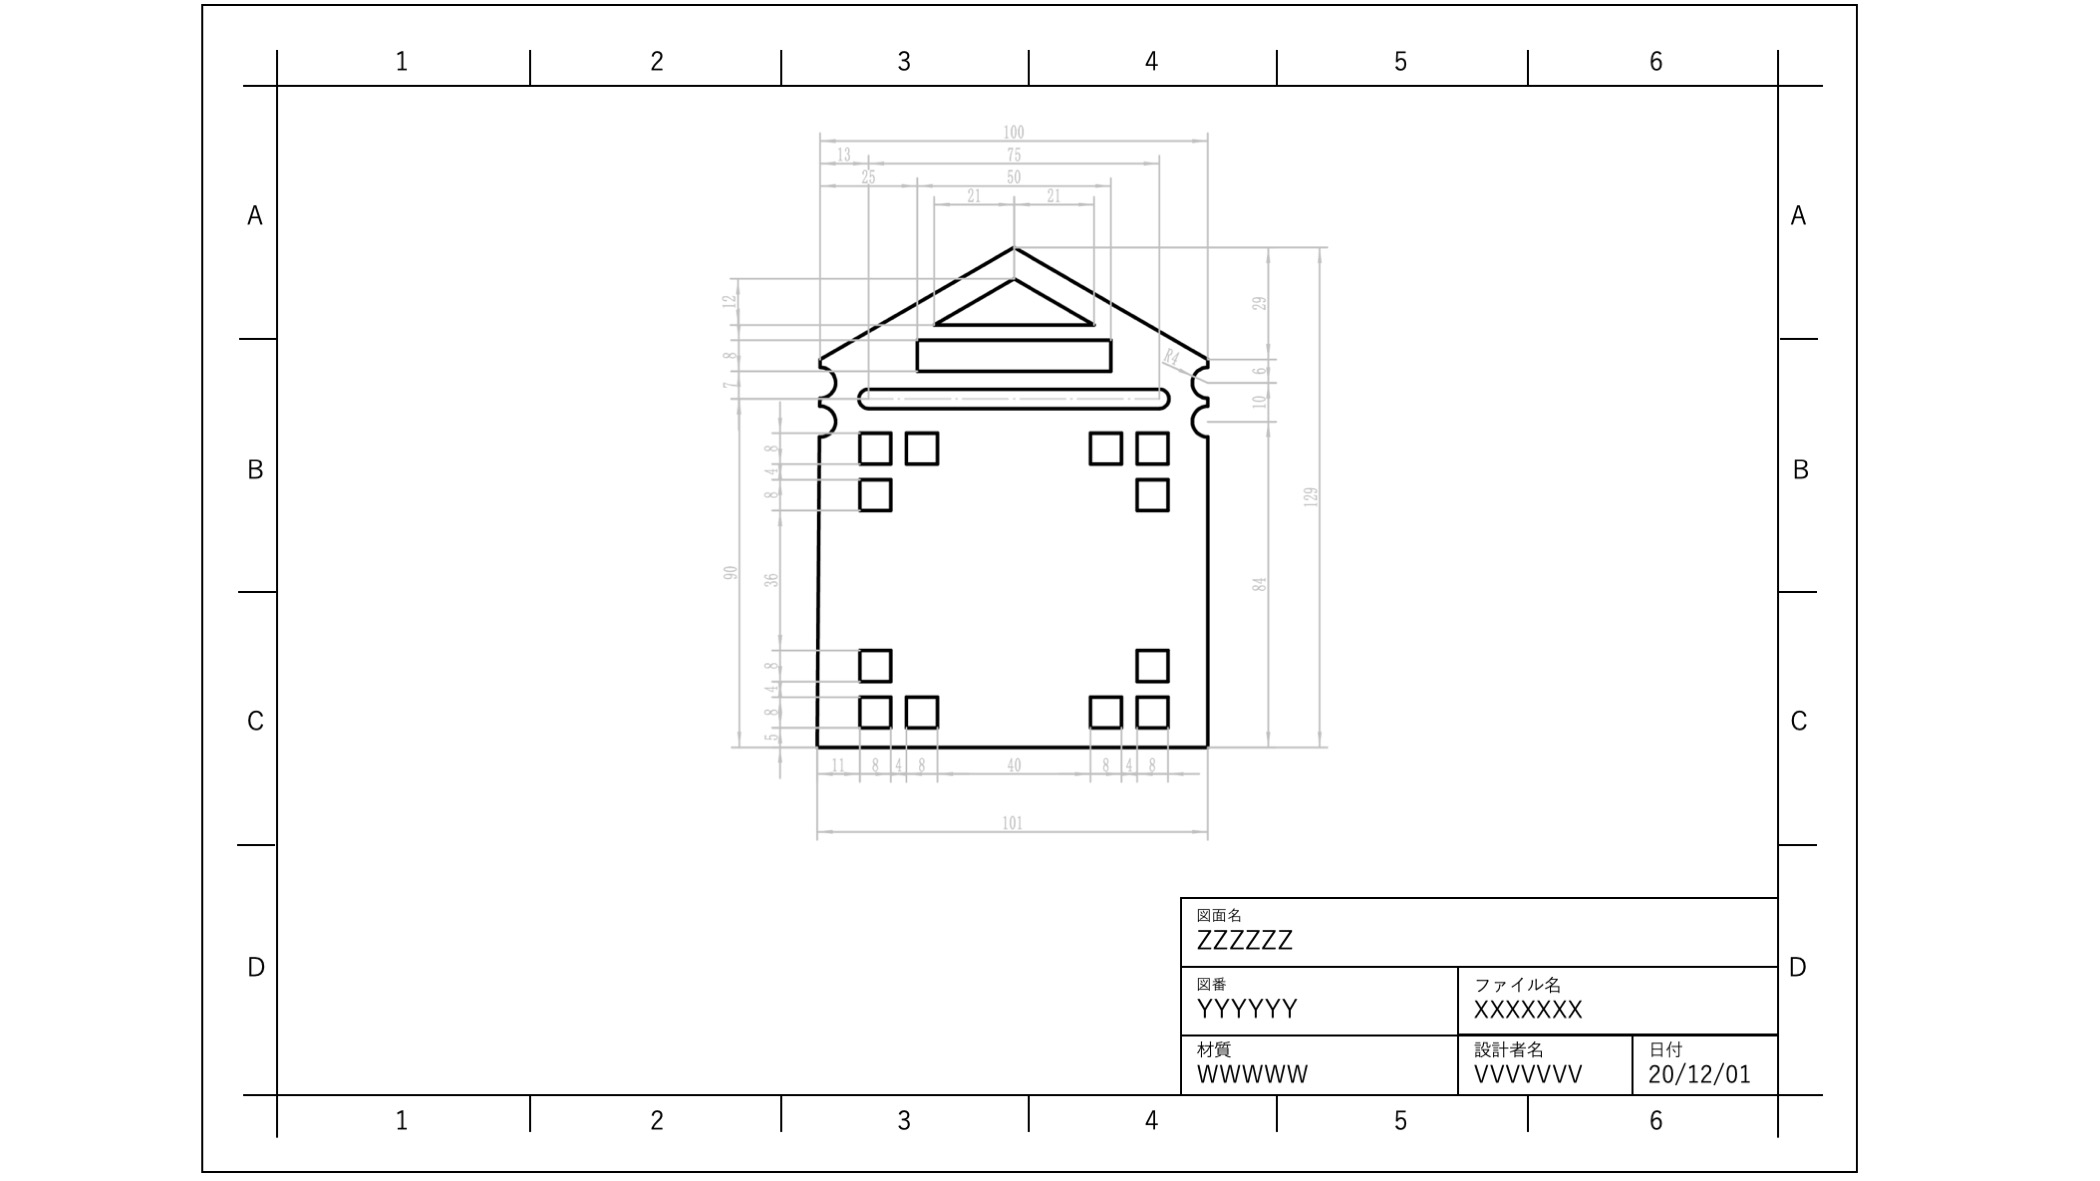rectangle: (904, 335, 1121, 376), (1126, 642, 1175, 691), (900, 691, 946, 734), (1080, 425, 1126, 469), (1079, 691, 1126, 733), (1126, 691, 1174, 733), (1129, 424, 1173, 467), (1129, 470, 1173, 513), (851, 425, 893, 469), (897, 425, 942, 466), (850, 473, 896, 512), (852, 694, 896, 734), (855, 642, 893, 686)
round_rectangle: (851, 381, 1174, 418)
triangle: (926, 278, 1100, 330)
